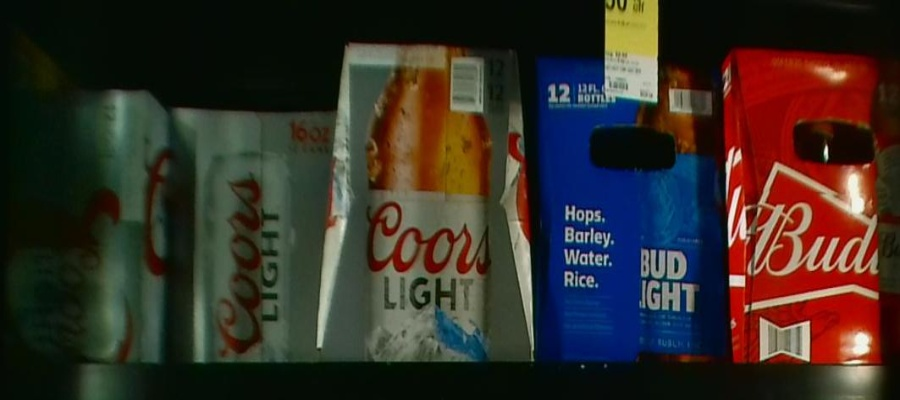bottle: (335, 42, 532, 365), (532, 56, 728, 362), (721, 46, 900, 365), (1, 98, 167, 368), (185, 109, 325, 368)
